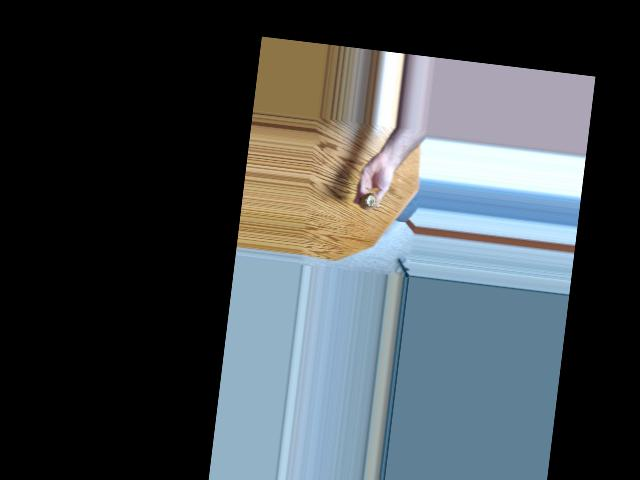sweet_potato: (362, 192, 380, 214)
